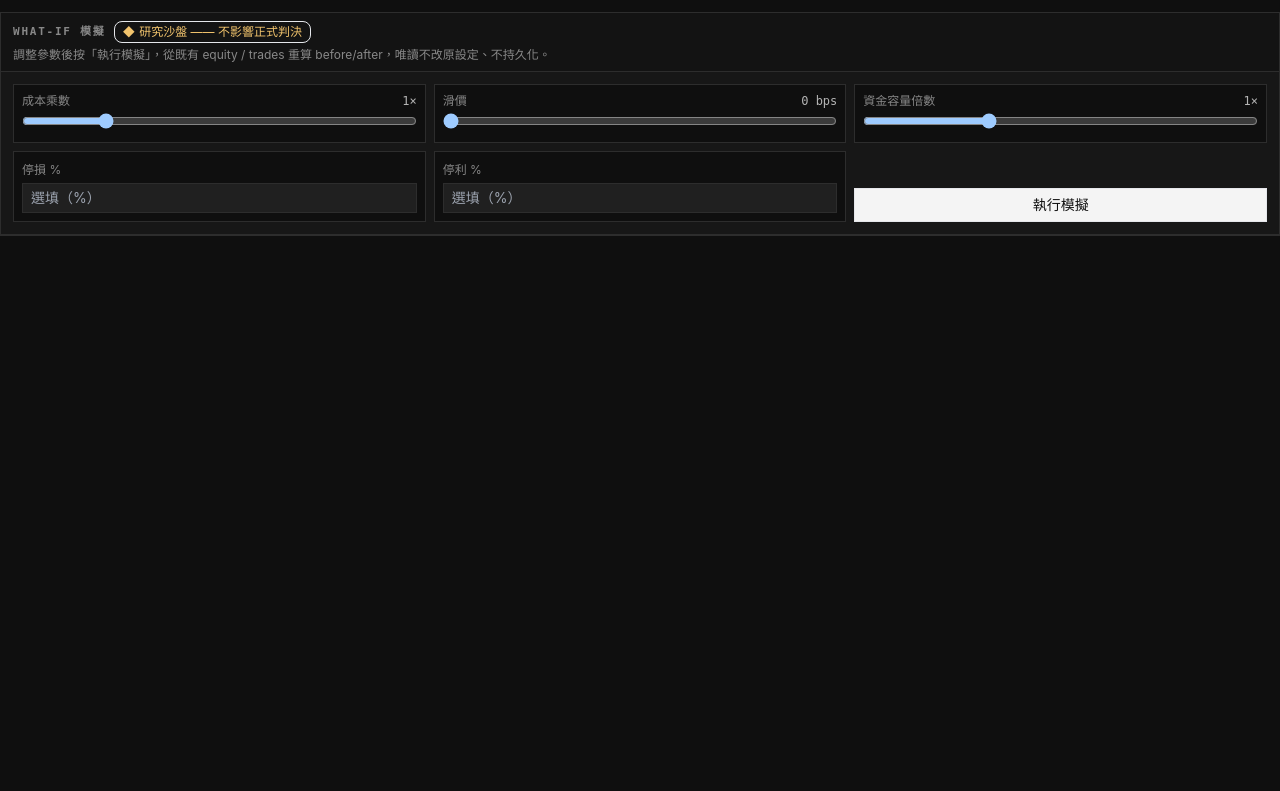
Test: SimulationPanel › runs the simulation on click and renders before/after deltas + affected count
Click the button with test id "sim-run".
click(1061, 205)  # box [854, 188, 1267, 222]
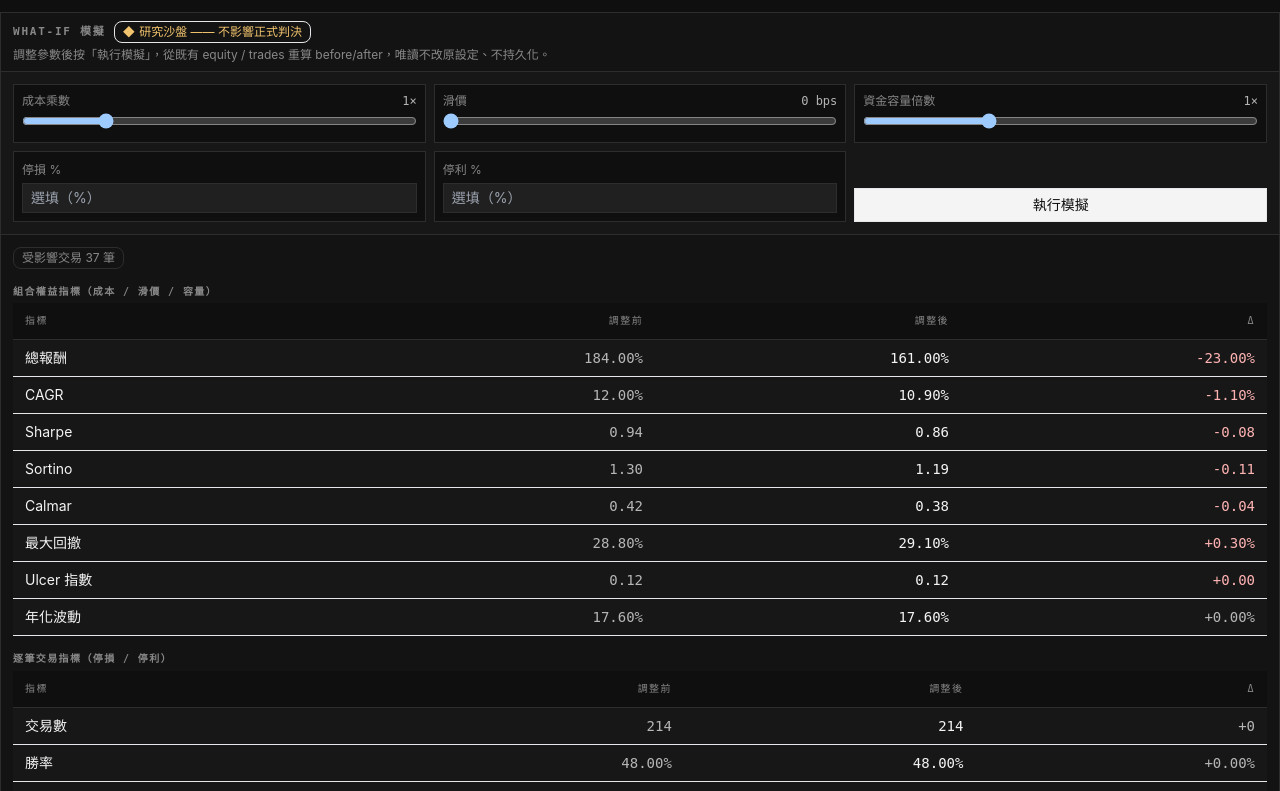
Check: the text "受影響交易 37 筆" is shown, box [13, 247, 124, 269]
Check: the cell with test id "sim-delta-total_return" shows "-", box [961, 340, 1267, 377]
